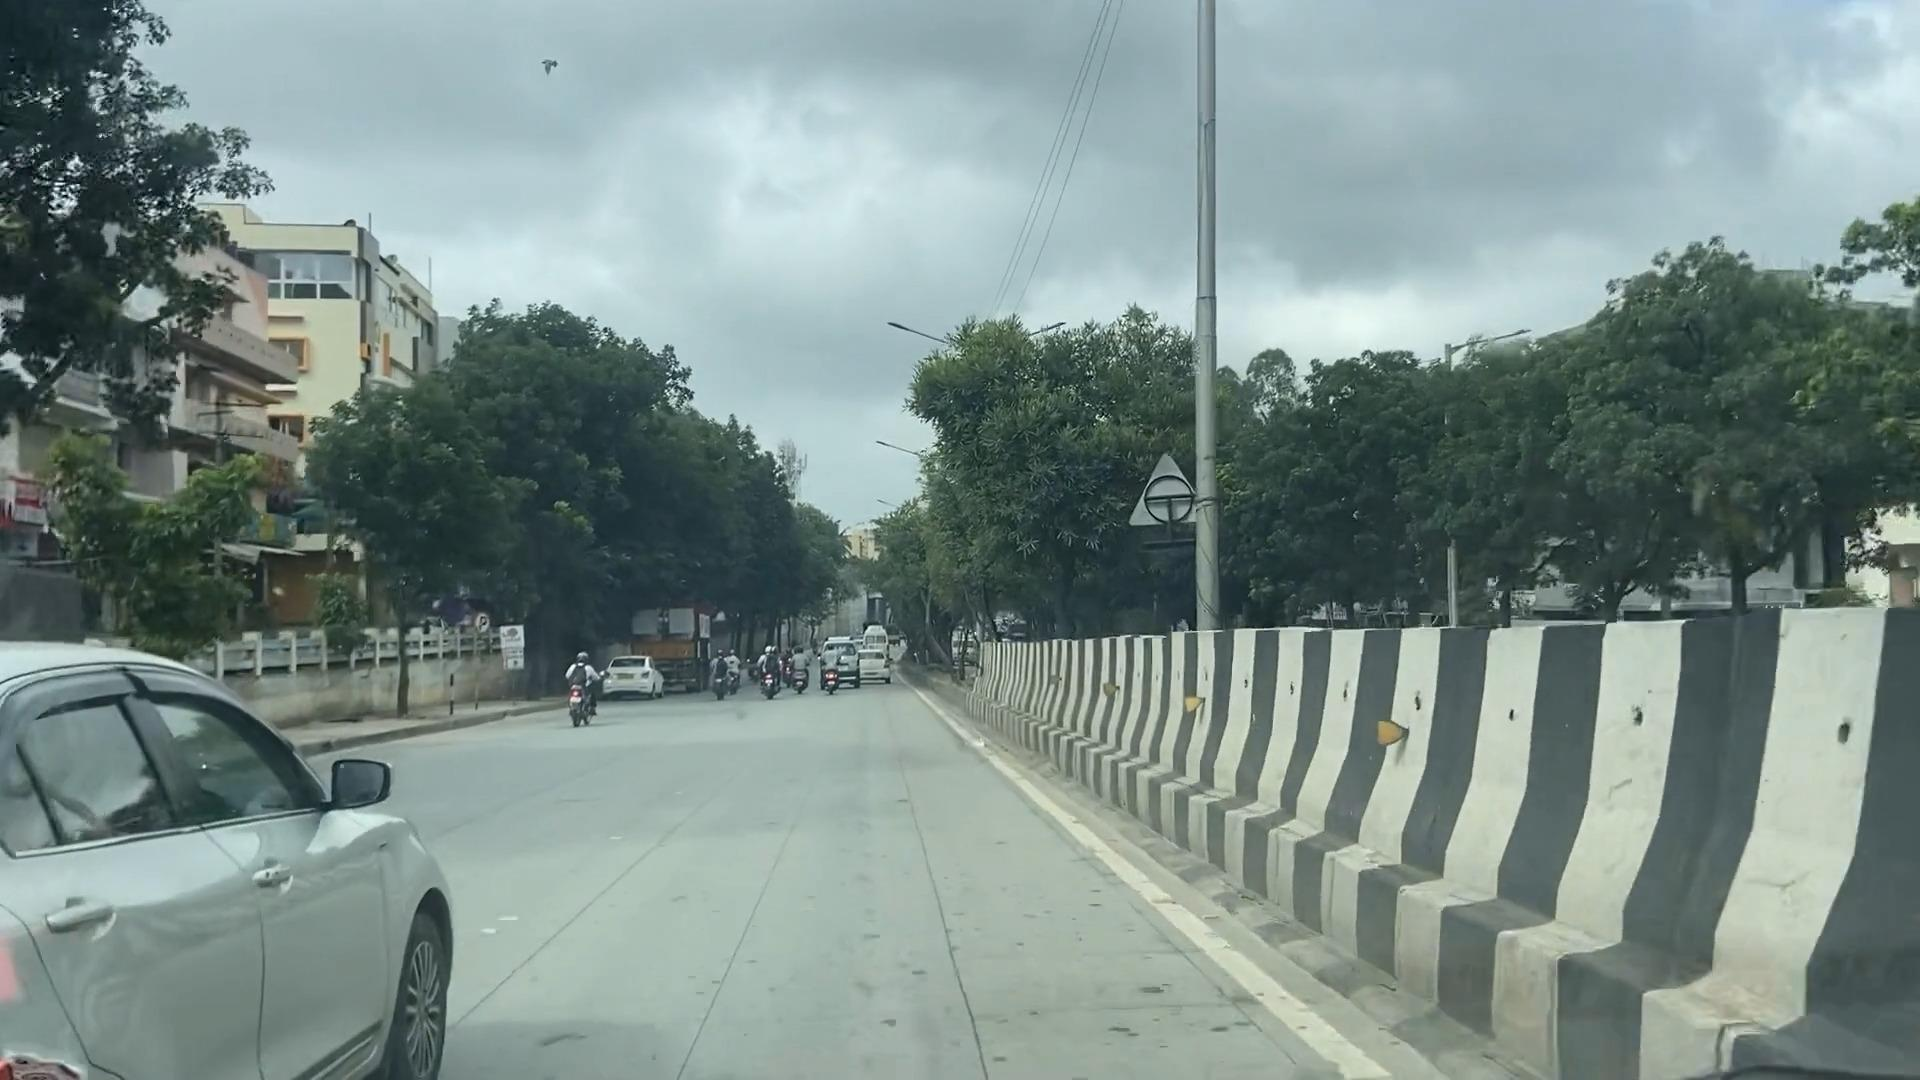LMV: (0, 628, 458, 1080)
